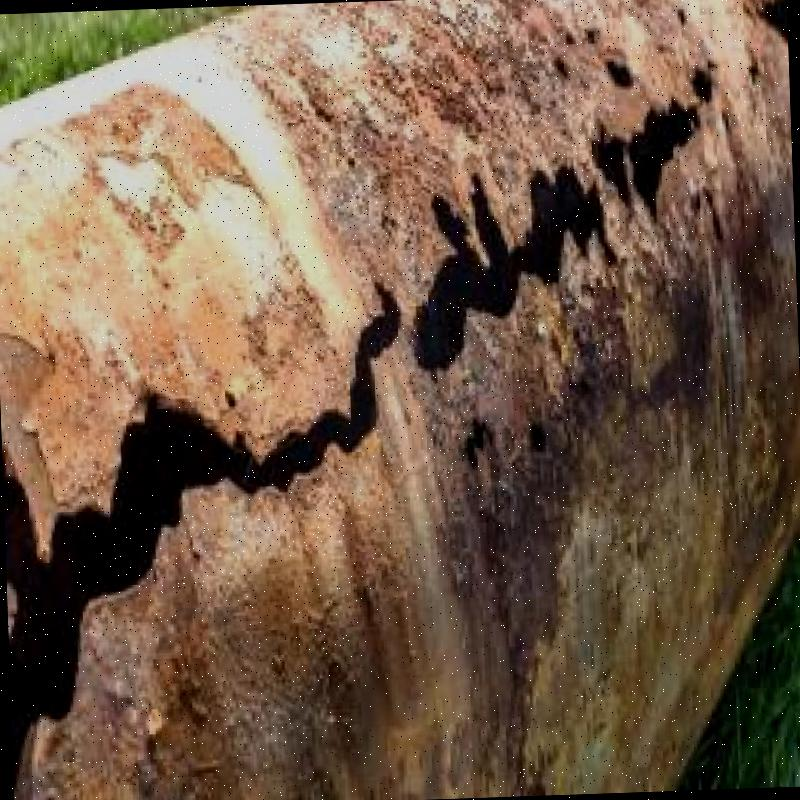Fracture: (348, 64, 751, 452), (76, 358, 332, 652)
corrosion: (226, 263, 800, 794), (21, 3, 433, 354)
